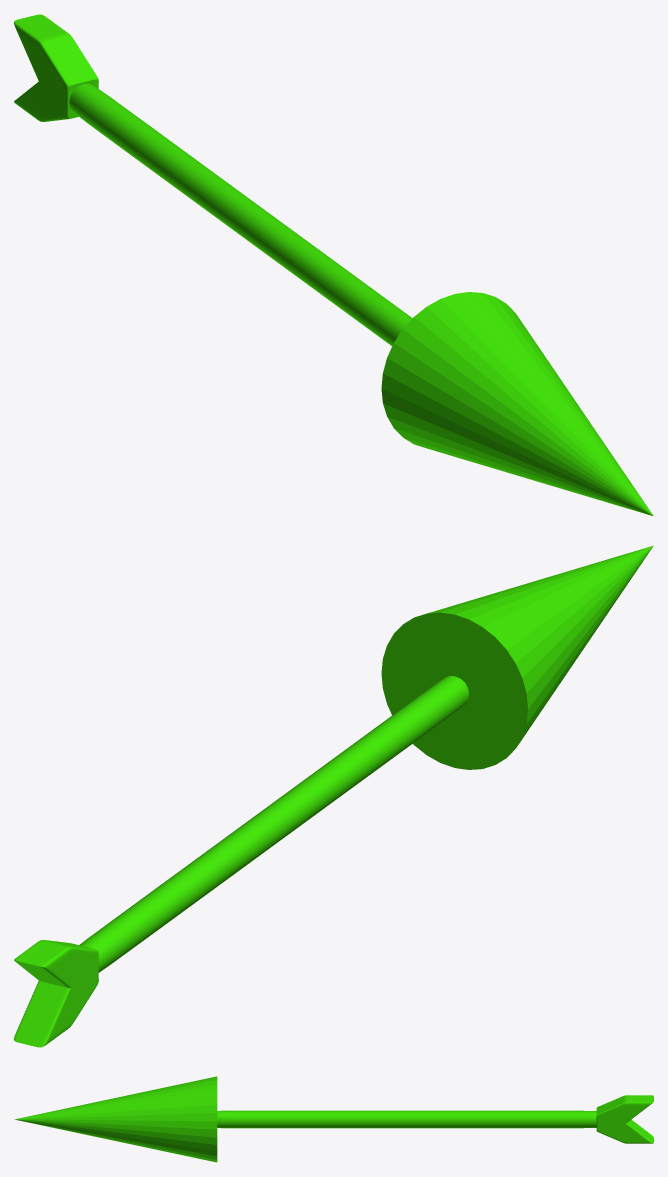
3 renders of one model, top to bottom at view 1: azimuth 30°, elevation 25°; view 2: azimuth 150°, elevation 25°; view 3: azimuth 270°, elevation 25°, orthographic. The views are drawn at different scales.
Parts seen in each view (by area): view 1: 円錐, Cube, 立方体; view 2: 円錐, Cube, 立方体; view 3: 円錐, Cube, 立方体.
Part boxes in pixels (x1,y1,x2,y2): 円錐: (381, 292, 653, 516); Cube: (69, 83, 412, 345); 立方体: (14, 14, 98, 121); 円錐: (381, 545, 653, 769); Cube: (79, 676, 469, 972); 立方体: (14, 940, 98, 1047); 円錐: (14, 1076, 217, 1162); Cube: (217, 1110, 596, 1128); 立方体: (596, 1095, 653, 1143).
Bounding box in the file's own units: 27.47 × 27.47 × 203.
